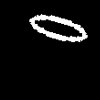chain: (30, 14, 86, 41)
